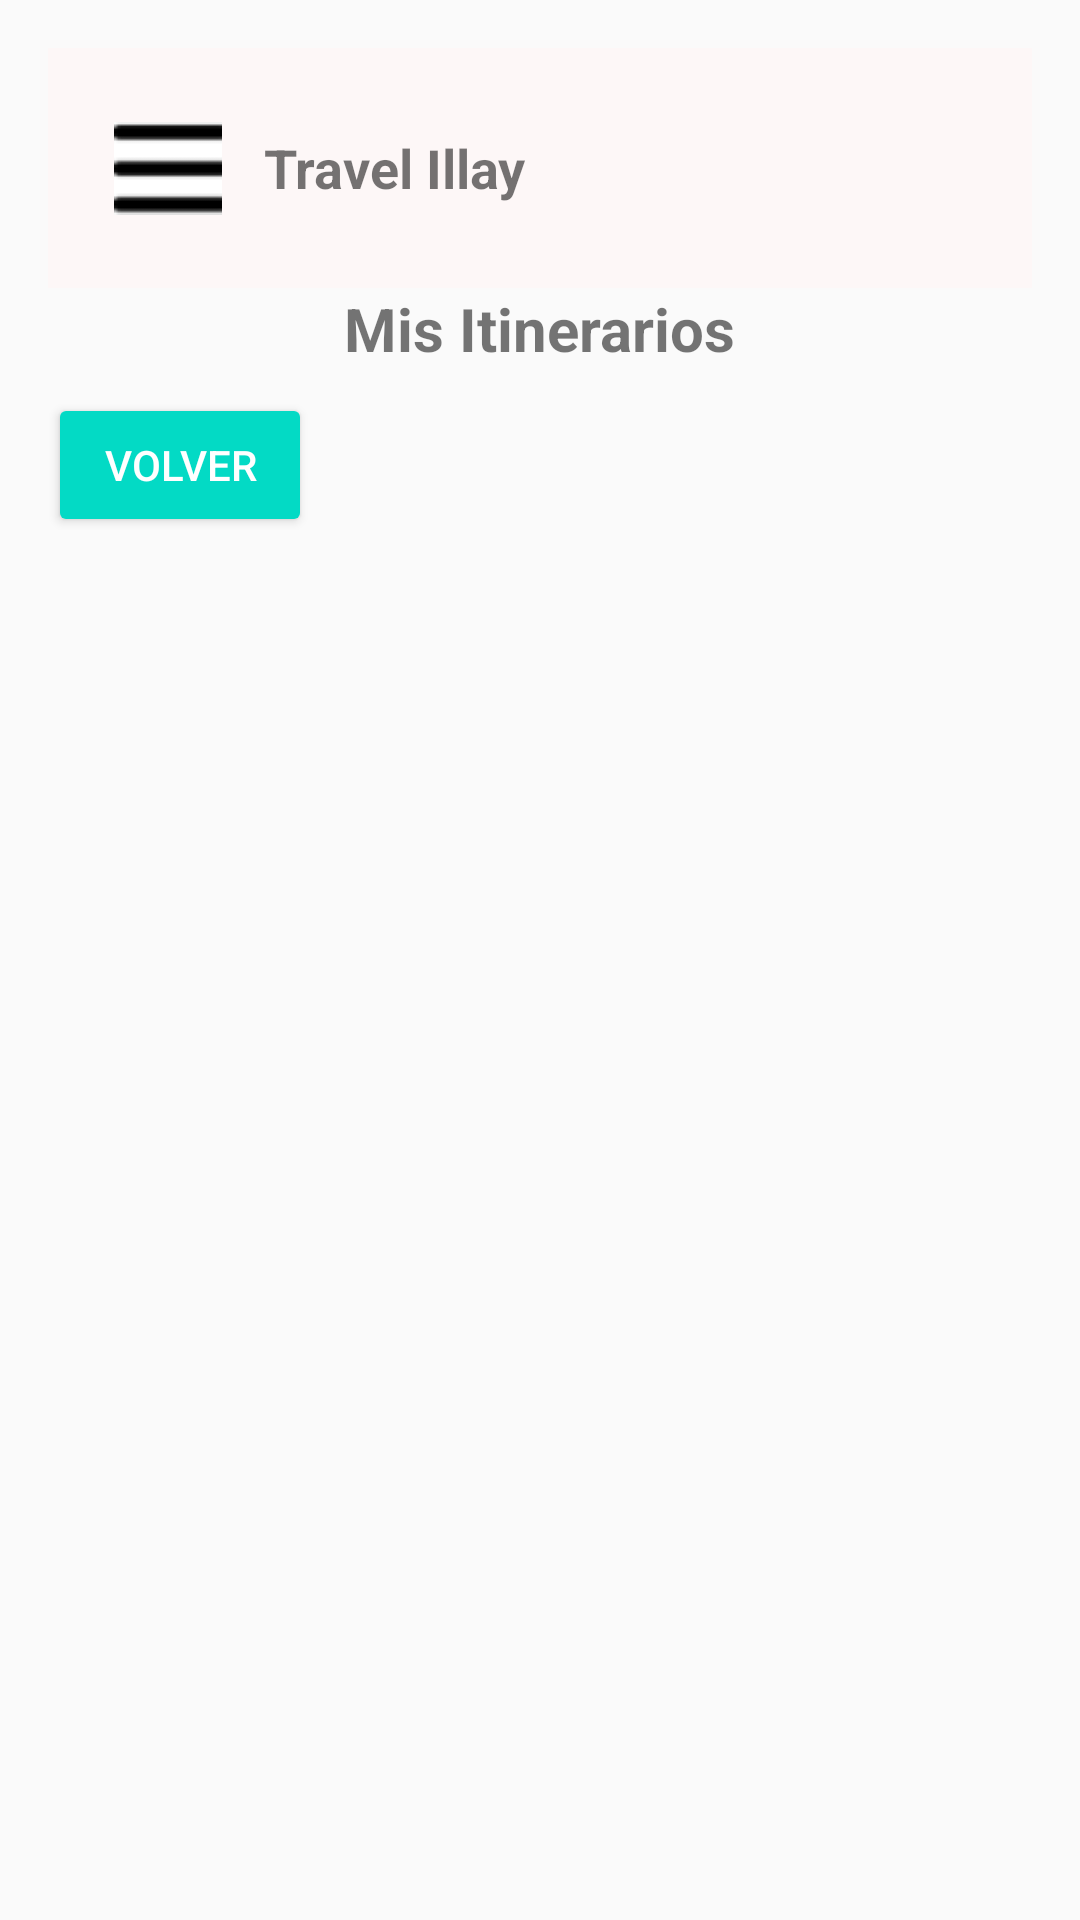

Icon bounding boxes for this 1080×1920 phone screenshot, format bbox=(x1, y1, x2, y2):
Menú principal: bbox=(114, 124, 222, 215)
